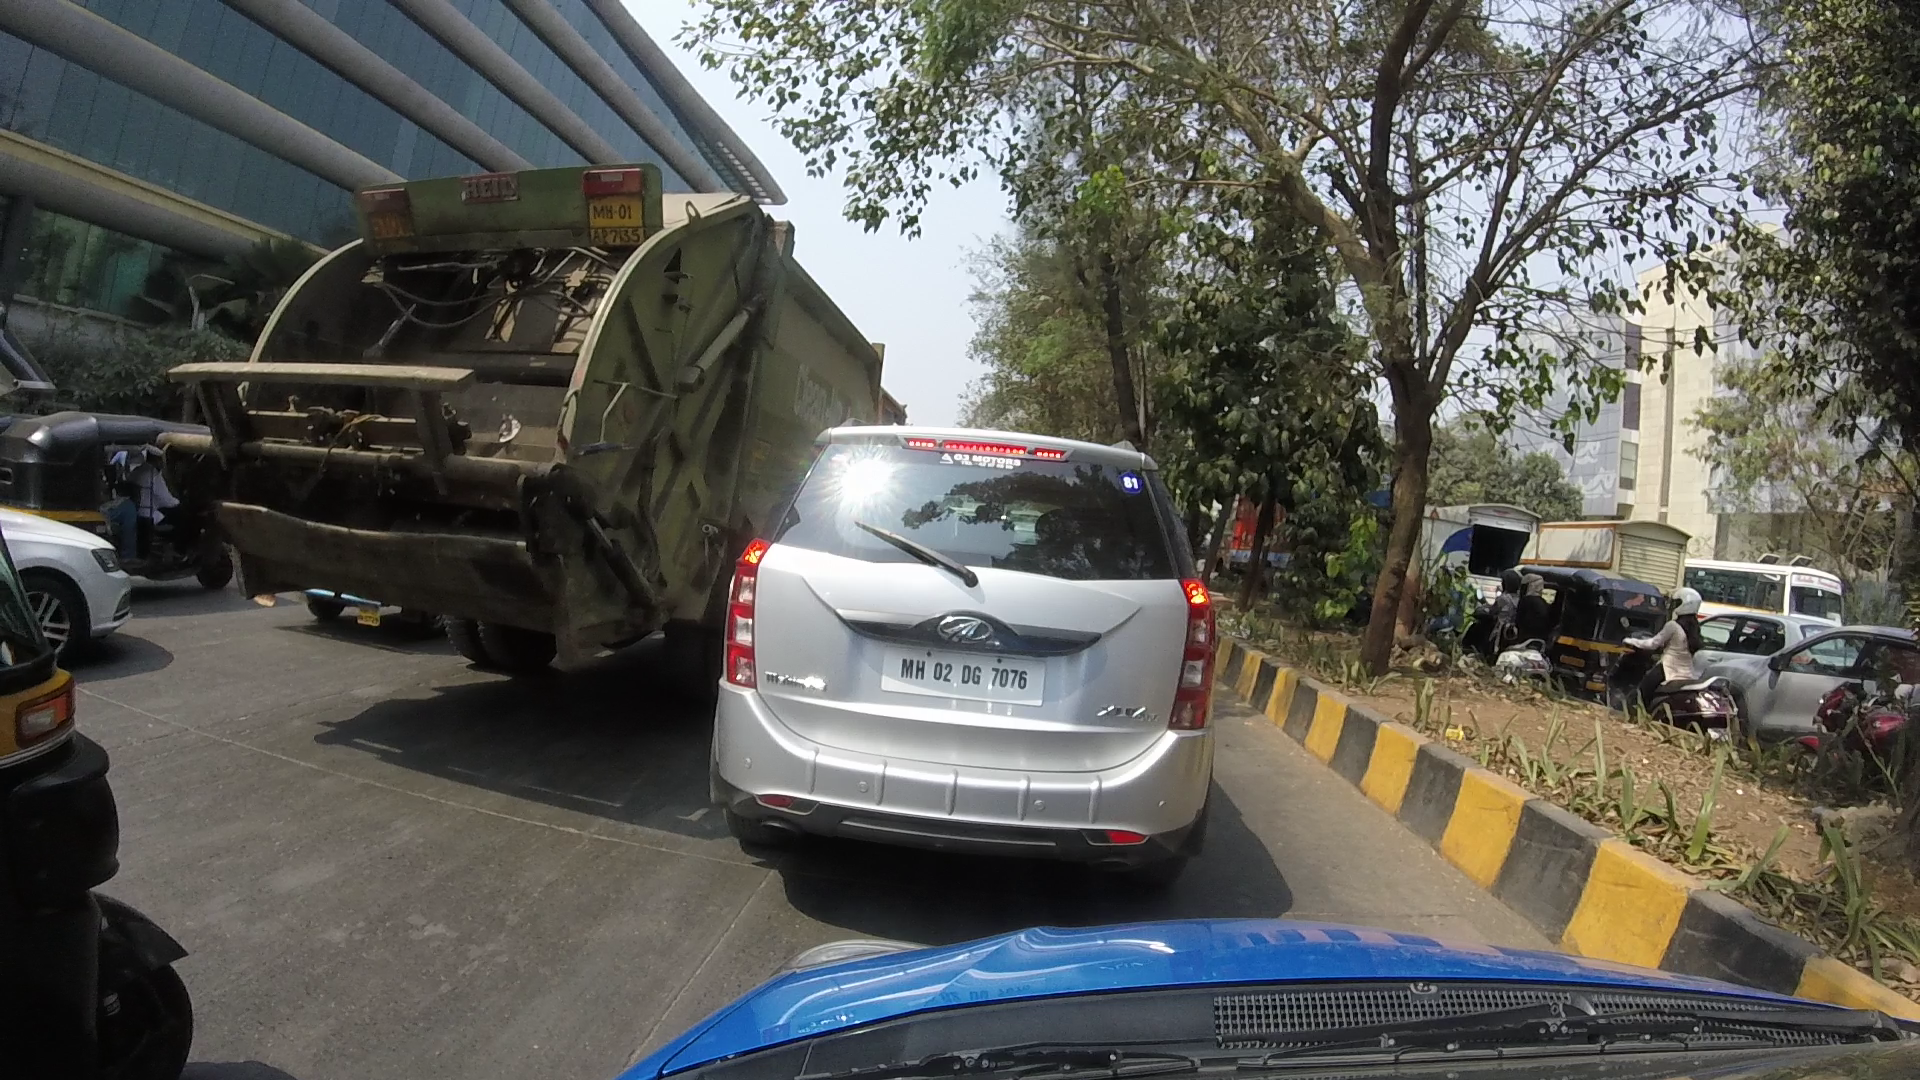car: (715, 375, 1233, 872), (5, 498, 142, 636)
rickshaw: (3, 542, 198, 1080), (5, 381, 229, 583)
truck: (186, 152, 874, 680)
